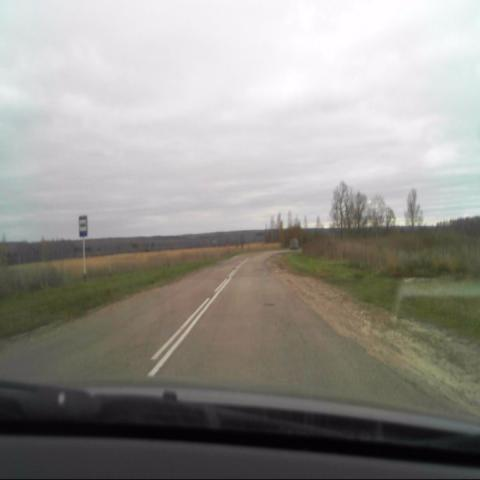5_16: (78, 216, 88, 239)
